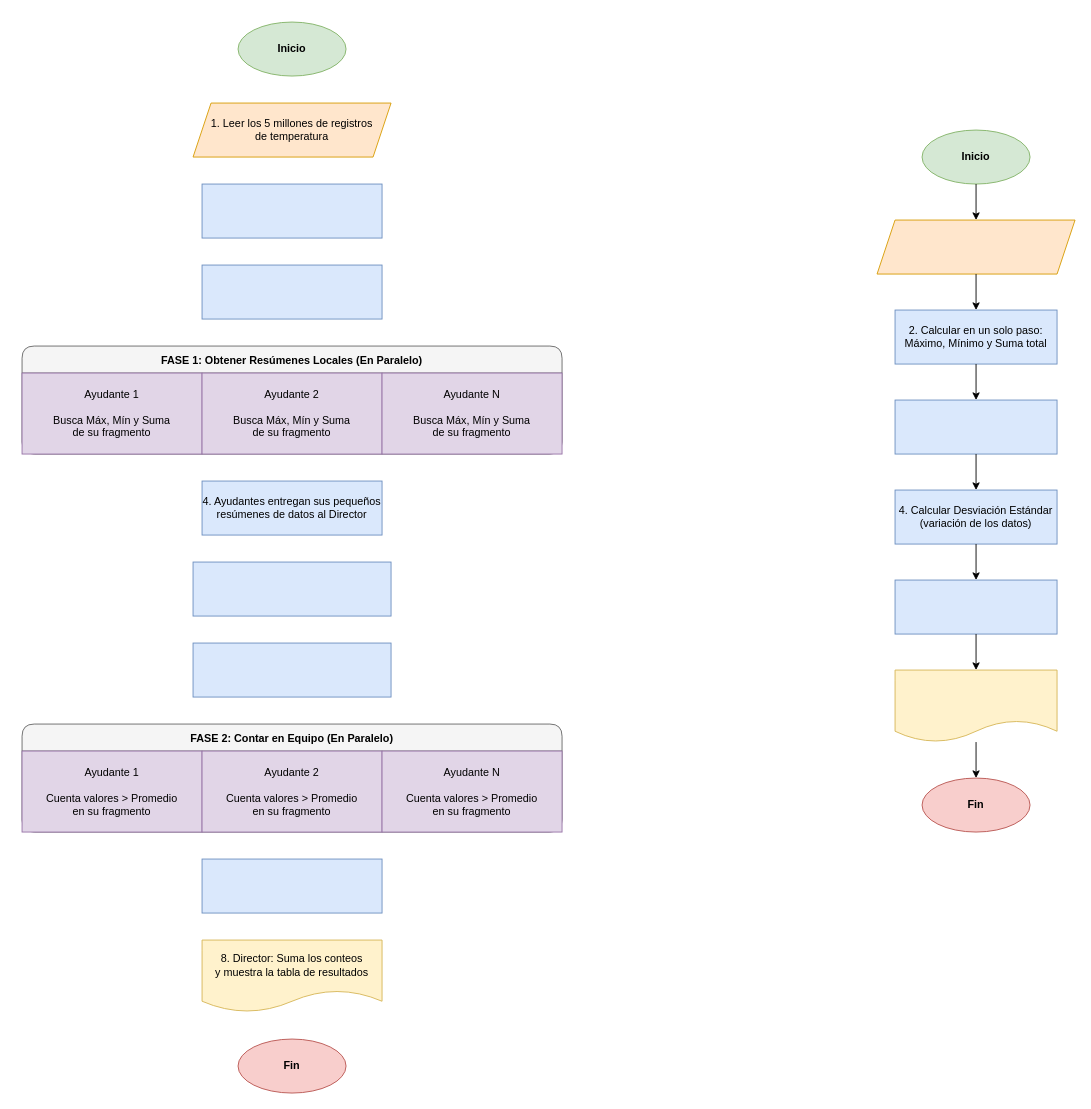
The diagram is 1091 pixels wide and 1109 high, and some of its shapes have lost their labels. The centre of each missing label's shape, as x and y in pixels:
"1. Leer los 5 millones de registros del archivo temperaturas.txt" belongs at (x=975, y=246).
"2. Director (Proceso Principal): Divide el archivo en partes iguales" belongs at (x=291, y=210).
"3. Calcular el Promedio (Suma / 5,000,000)" belongs at (x=975, y=426).
"3. Repartir partes a los Ayudantes (un proceso por cada núcleo de CPU)" belongs at (x=291, y=291).
"5. Director: Calcula el Máximo, Mínimo y Promedio Global de todo el archivo" belongs at (x=291, y=588).
"5. Volver a recorrer los datos para contar mayores al Promedio" belongs at (x=975, y=606).
"6. Director: Envía el Promedio Global a todos los Ayudantes" belongs at (x=291, y=669).
"6. Mostrar los 5 resultados finales en la consola" belongs at (x=975, y=705).
"7. Ayudantes devuelven sus conteos parciales al Director" belongs at (x=291, y=885).
